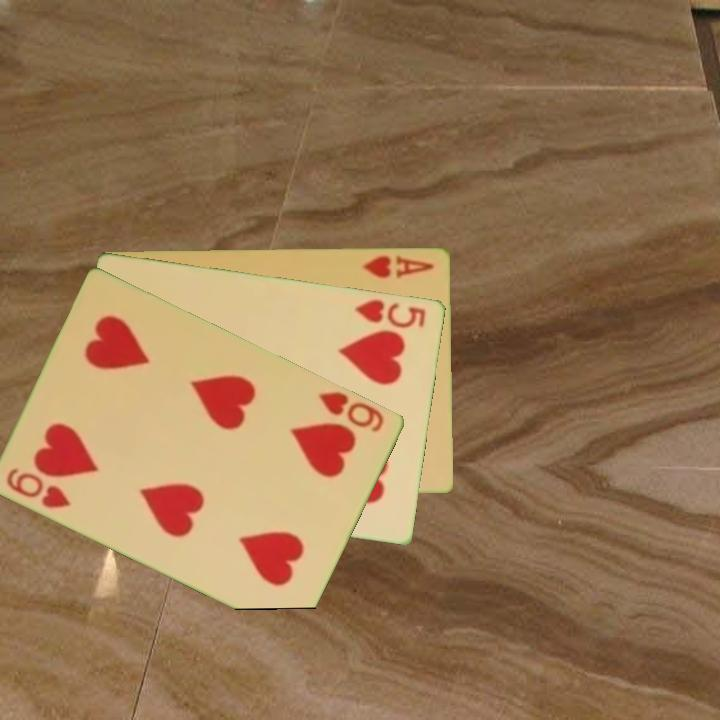5h: (352, 295, 429, 331)
6h: (315, 387, 388, 435), (3, 464, 75, 511)
Ah: (360, 252, 437, 281)
